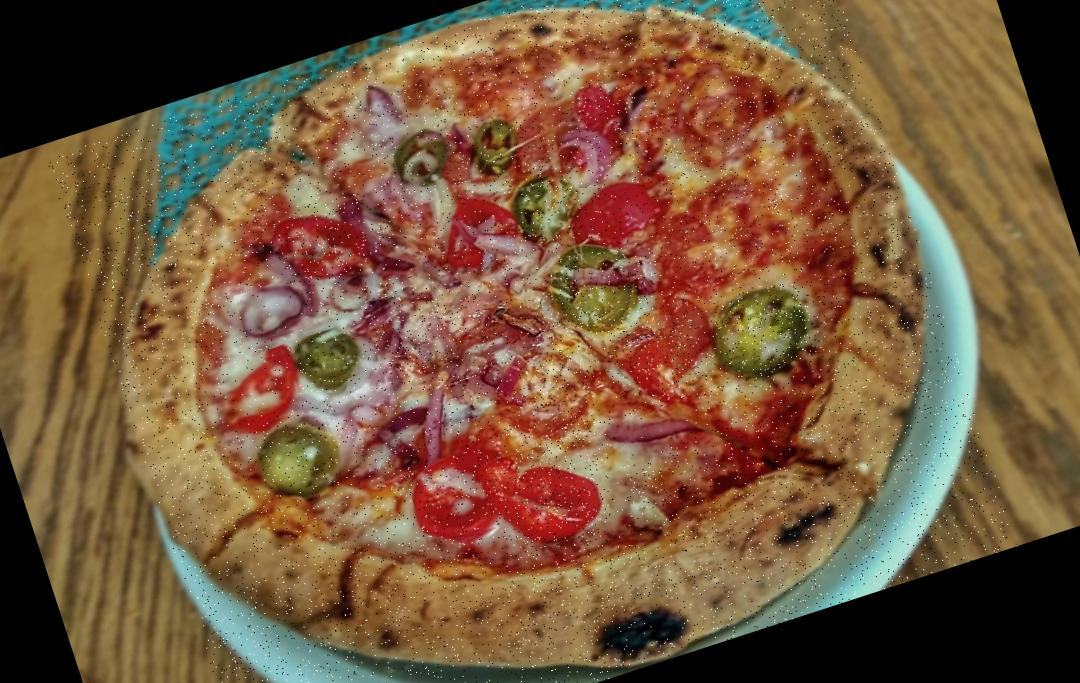Onion: (360, 280, 458, 384), (606, 395, 710, 464), (235, 276, 312, 344), (573, 248, 655, 310), (411, 383, 469, 464), (556, 121, 624, 190), (358, 78, 401, 126)
Peppers: (706, 278, 818, 385), (546, 236, 644, 334), (252, 416, 346, 504), (514, 170, 588, 240), (291, 323, 364, 389), (390, 125, 458, 190), (472, 118, 520, 166)
Pizza: (46, 0, 1018, 683)
Tomatoes: (493, 432, 616, 562), (489, 340, 604, 444), (404, 446, 512, 550), (620, 308, 718, 407), (204, 344, 307, 437), (432, 185, 527, 280), (272, 199, 370, 289), (563, 172, 665, 258), (568, 78, 629, 158)
